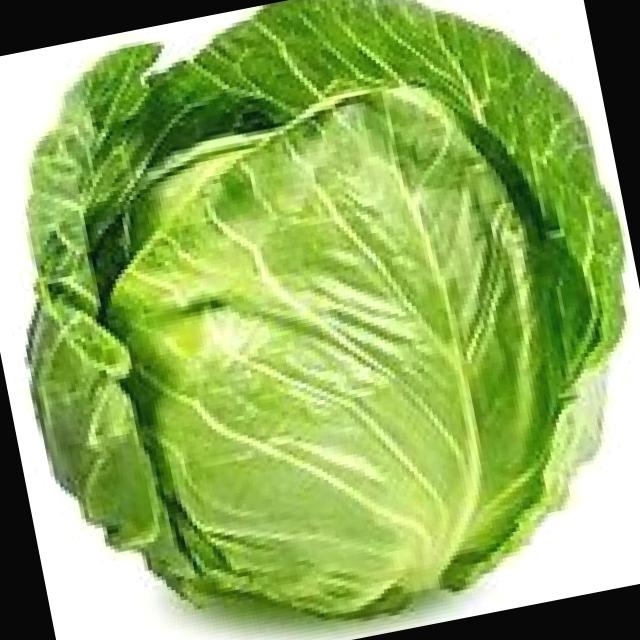cabbage: (79, 68, 590, 640)
